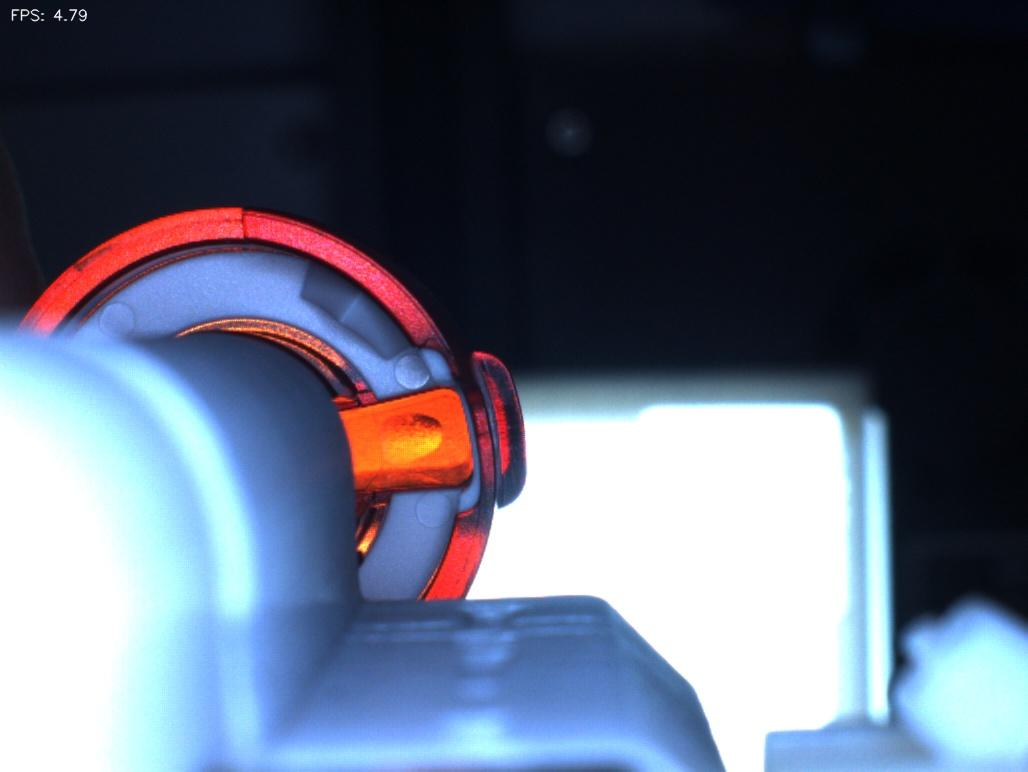Retassure: (364, 406, 455, 481)
